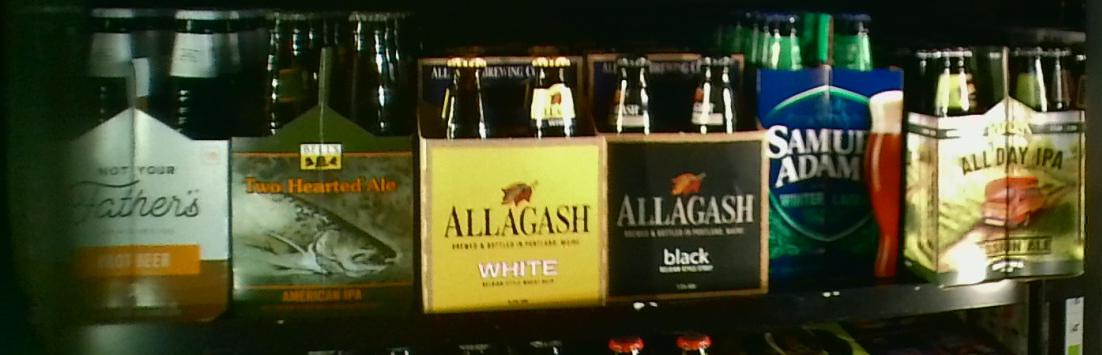bottle: (233, 8, 413, 325), (60, 3, 229, 324), (413, 56, 610, 313), (905, 43, 1092, 280), (607, 51, 772, 307), (769, 11, 906, 286)
